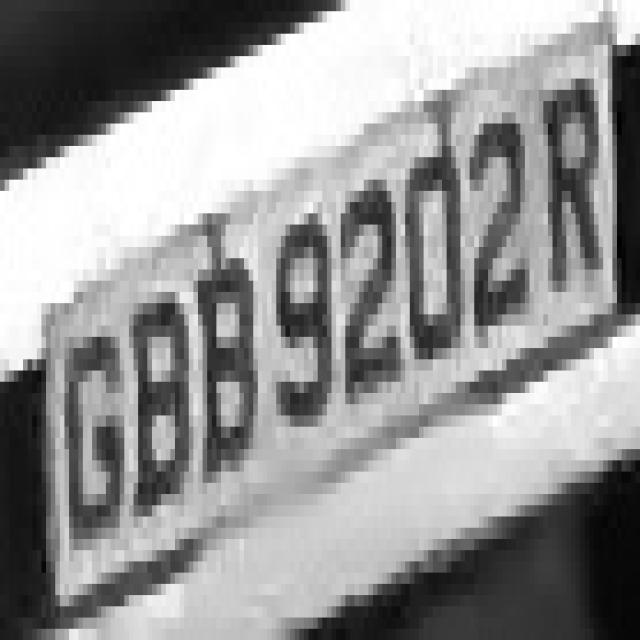0: (396, 78, 465, 382)
2: (465, 101, 543, 415), (332, 135, 405, 438)
9: (262, 179, 341, 472)
B: (193, 214, 267, 516), (115, 269, 193, 516)
G: (46, 281, 129, 561)
R: (538, 45, 608, 337)
